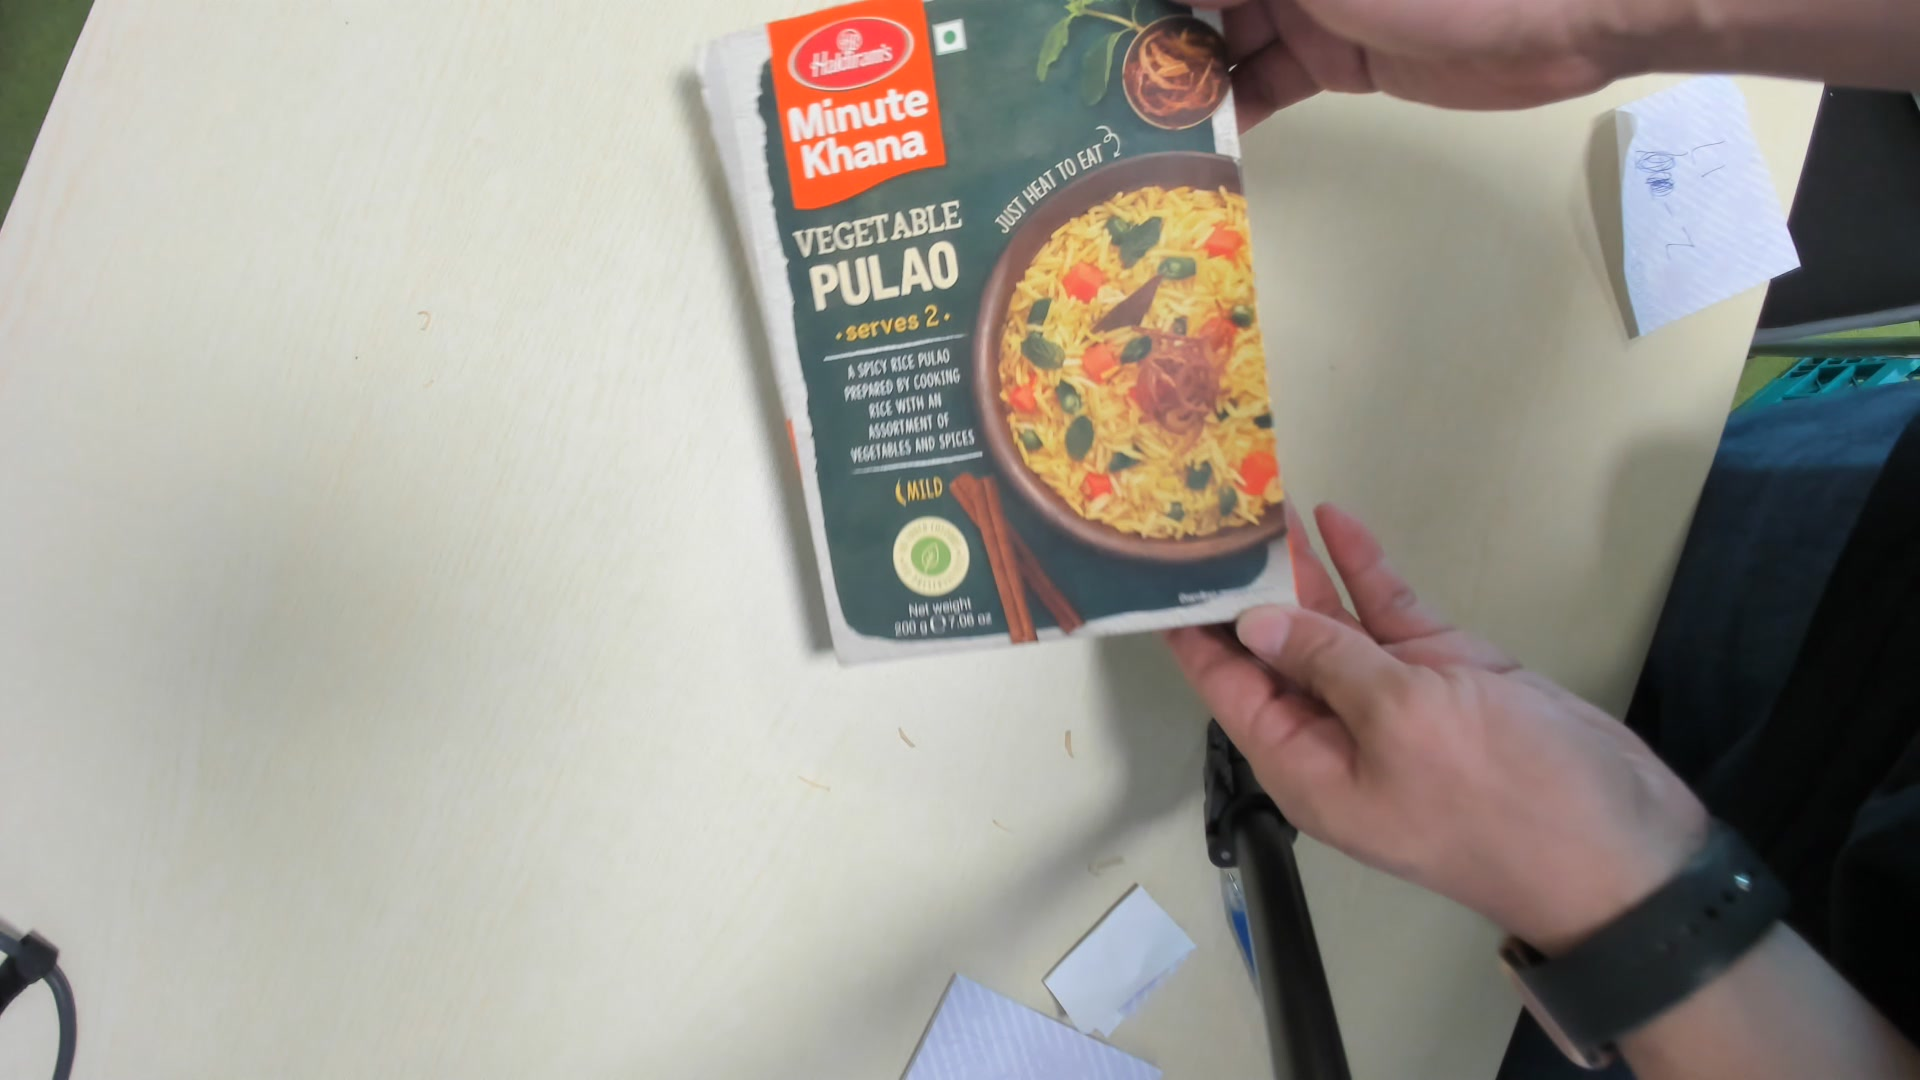InstantMeals_200_299g_NonHalal_NonHealthy: (702, 15, 1290, 673)
